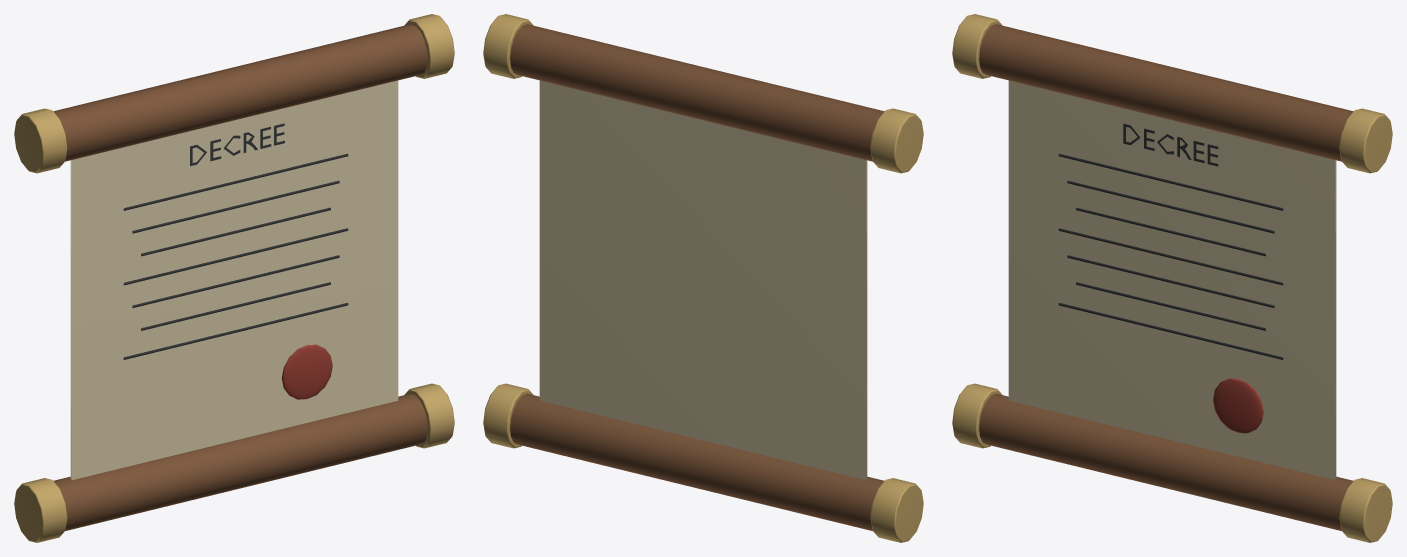
The model's file is P028_royal_scroll_rebuilt.glb.
3 renders of one model, left to right at view 1: azimuth 30°, elevation 25°; view 2: azimuth 150°, elevation 25°; view 3: azimuth 330°, elevation 25°, orthographic.
Visible parts, largest first — view 1: paper, wood, brass, ink, red; view 2: paper, wood, brass; view 3: paper, wood, brass, ink, red.
Boxes of the visible parts, x1=… form: paper: x1=70, y1=80, x2=398, y2=479; wood: x1=53, y1=24, x2=427, y2=530; brass: x1=14, y1=14, x2=454, y2=542; ink: x1=123, y1=123, x2=348, y2=359; red: x1=281, y1=344, x2=332, y2=399; paper: x1=539, y1=80, x2=867, y2=479; wood: x1=510, y1=24, x2=884, y2=530; brass: x1=483, y1=14, x2=923, y2=542; paper: x1=1008, y1=80, x2=1336, y2=479; wood: x1=979, y1=24, x2=1353, y2=530; brass: x1=952, y1=14, x2=1392, y2=542; ink: x1=1058, y1=123, x2=1283, y2=359; red: x1=1213, y1=378, x2=1263, y2=433.
Bounding box in the file's own units: 0.418 × 0.412 × 0.052.
